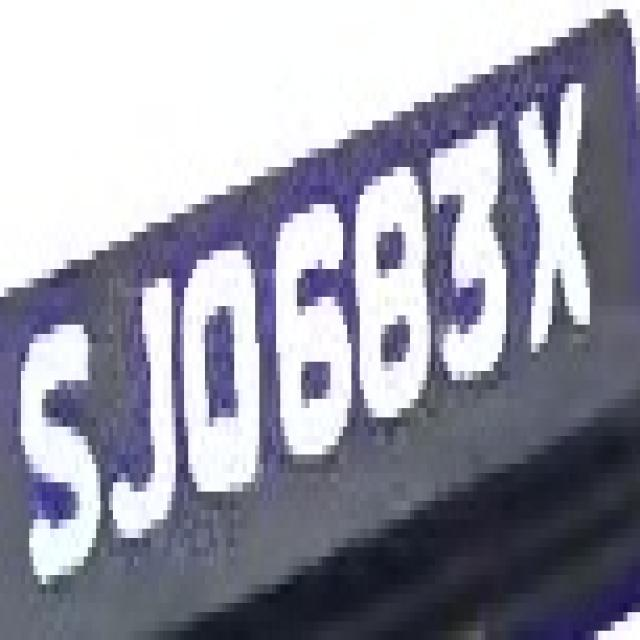3: (414, 111, 506, 399)
6: (272, 186, 364, 473)
8: (347, 148, 427, 427)
J: (92, 241, 188, 557)
Q: (172, 223, 268, 510)
S: (8, 306, 109, 584)
X: (511, 74, 606, 362)
